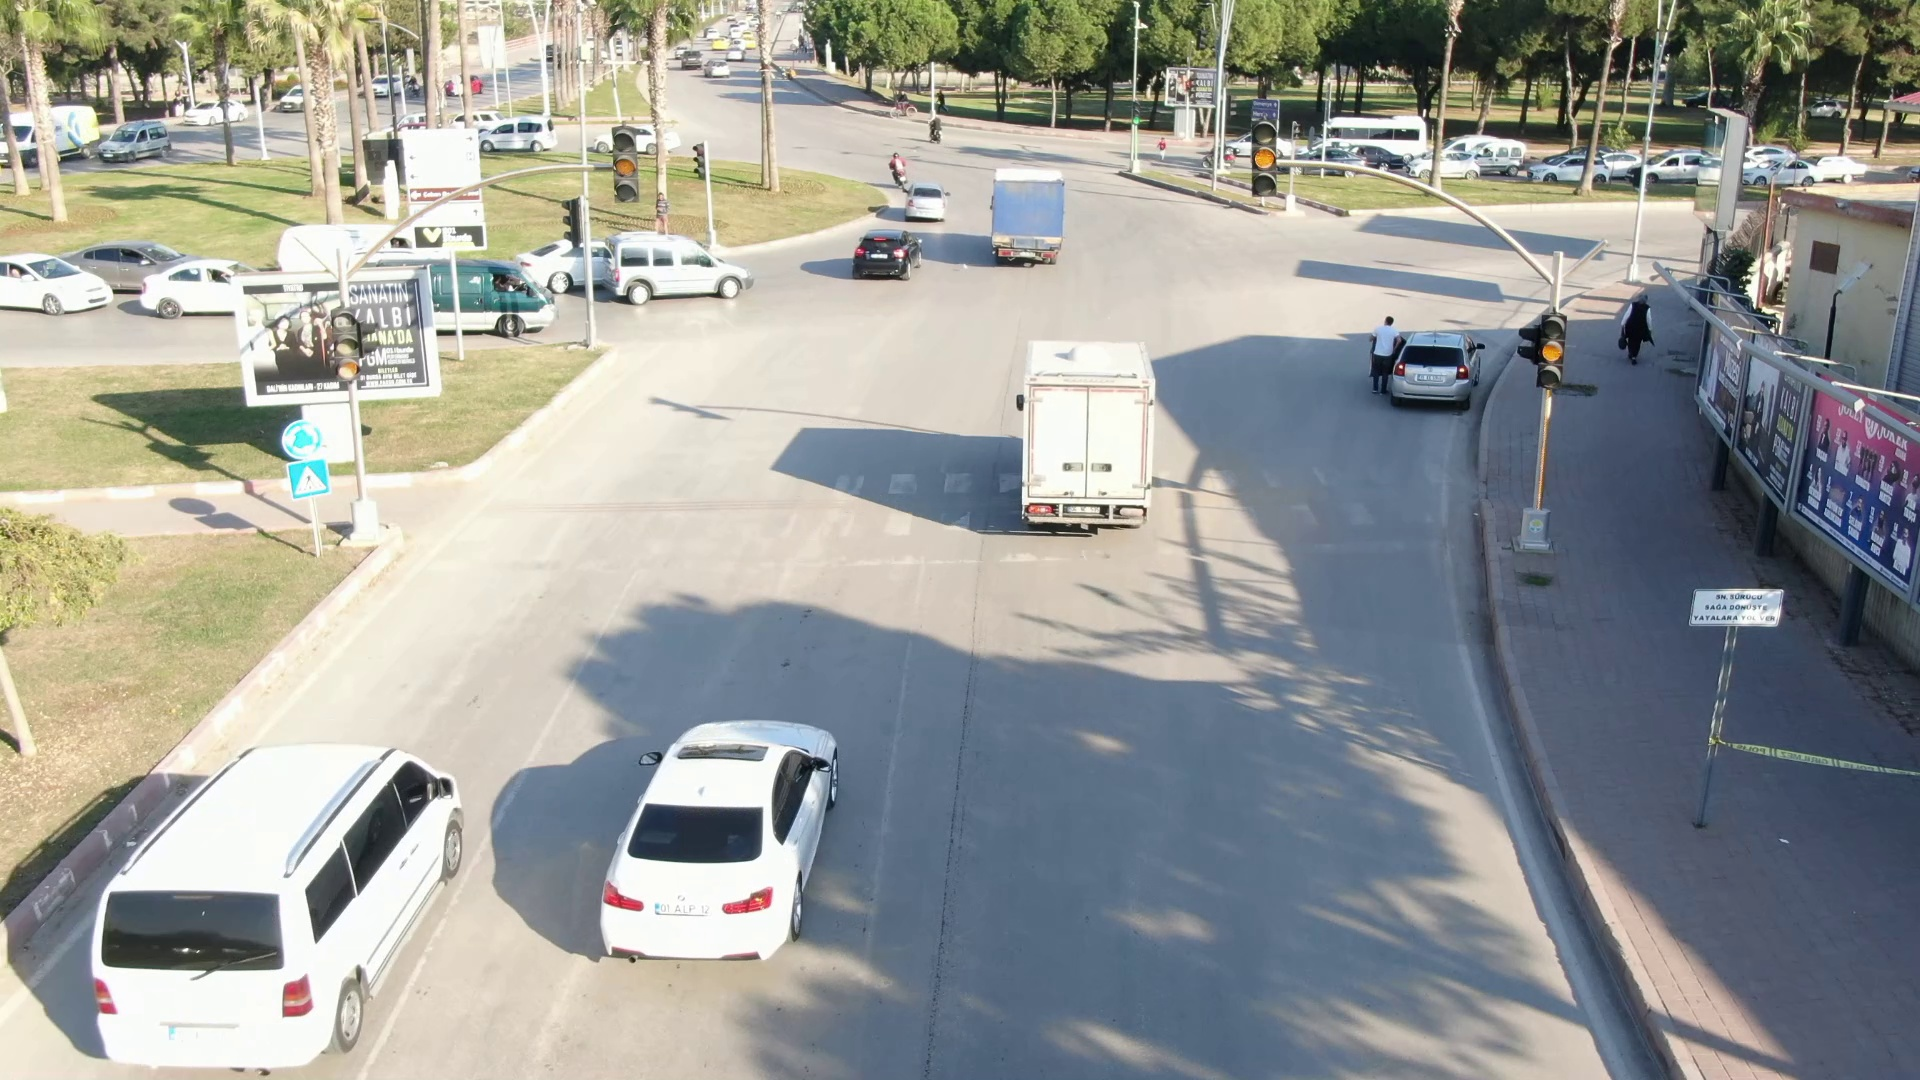car: (77, 728, 493, 1080), (580, 695, 865, 980), (985, 318, 1184, 535), (975, 160, 1082, 276), (603, 229, 759, 309), (1390, 327, 1489, 410), (840, 218, 927, 284), (1525, 150, 1619, 193), (476, 112, 569, 153), (897, 180, 963, 223)
person: (1612, 288, 1669, 370), (1367, 311, 1405, 396)
